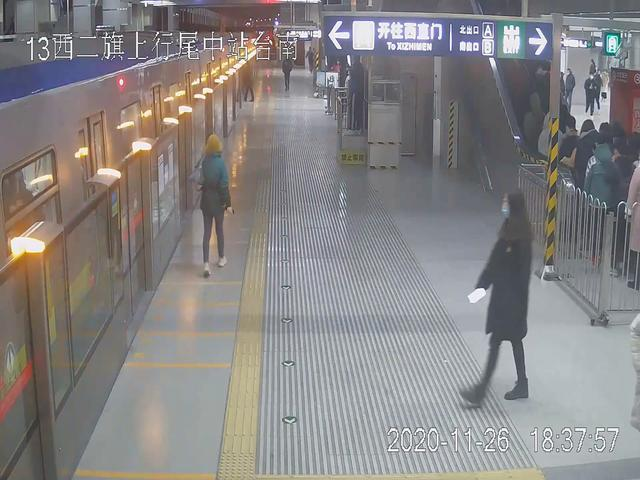person: (467, 186, 531, 408), (194, 133, 230, 277)
